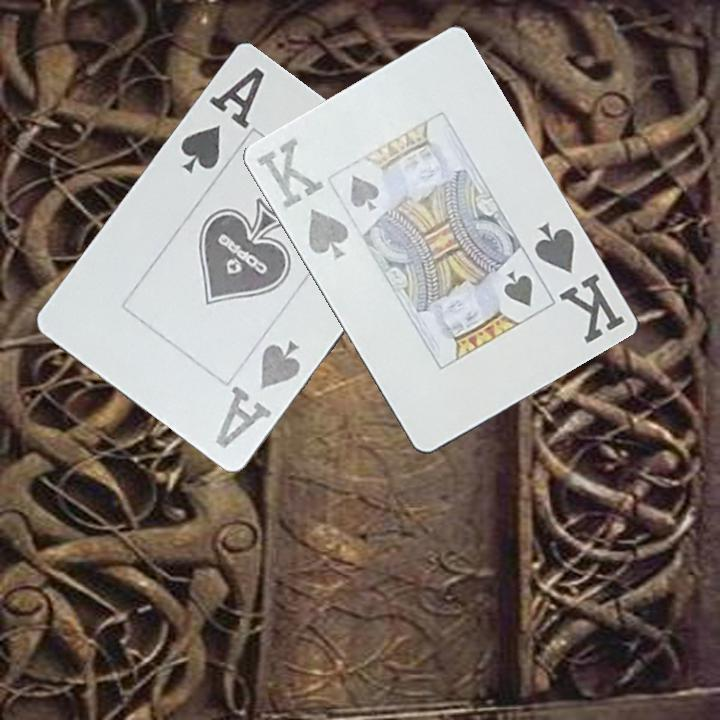As: (211, 337, 304, 452), (176, 62, 268, 176)
Ks: (253, 133, 353, 262), (531, 218, 629, 347)
